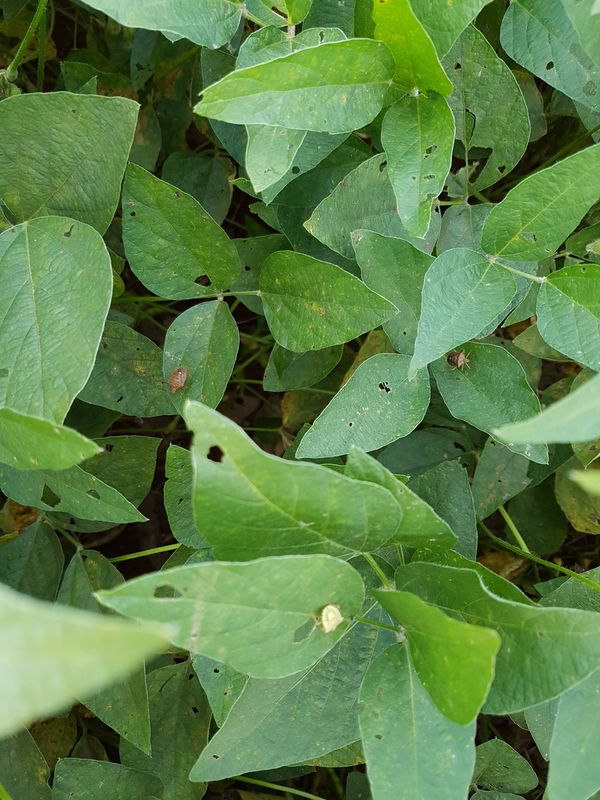Euschistus_heros_adulto: (159, 361, 195, 398), (438, 344, 476, 378)
Euschistus_heros_ninfa: (306, 595, 354, 639)
